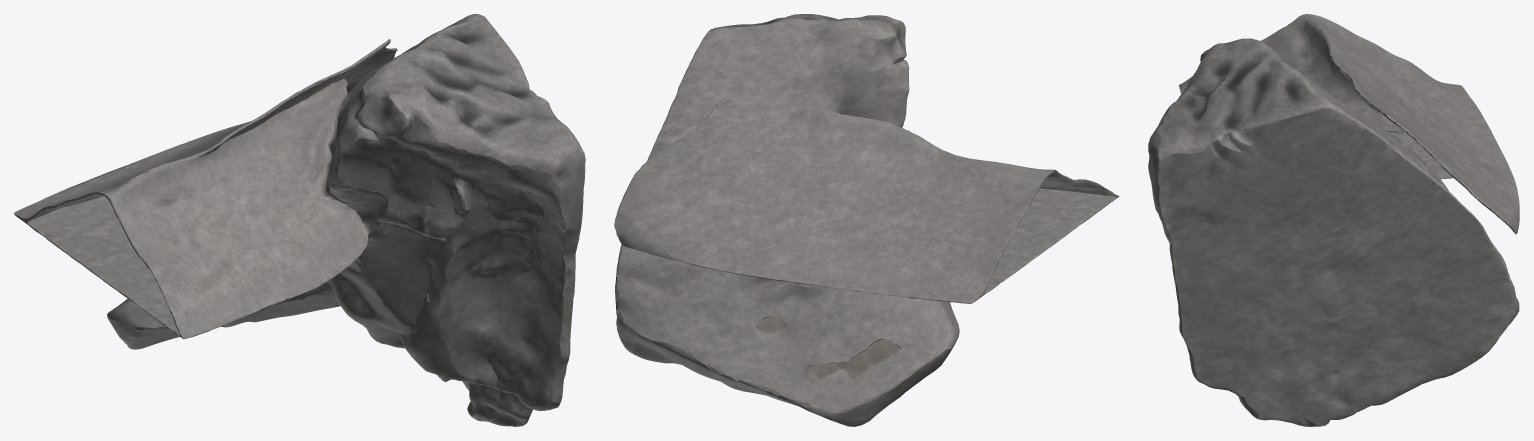
The picture shows the model from 3 angles, left to right: view 1: azimuth 30°, elevation 25°; view 2: azimuth 150°, elevation 25°; view 3: azimuth 270°, elevation 25°; orthographic projection. The views are drawn at different scales.
Parts seen in each view (by area): view 1: world; view 2: world; view 3: world.
Part boxes in pixels (<box>): world: <box>14,14,585,426</box>; world: <box>614,14,1119,426</box>; world: <box>1148,14,1519,426</box>.
Bounding box in the file's own units: 1.51 × 1.5 × 1.5.
1 material, 1 textured.
